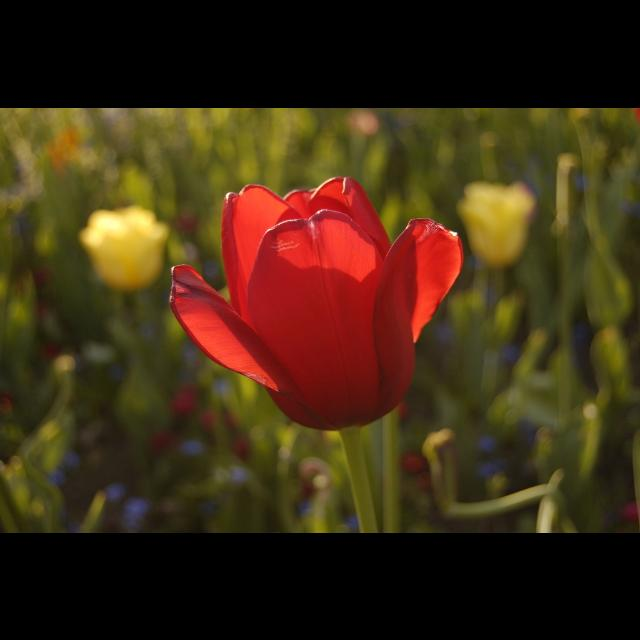Flower: (174, 187, 446, 433), (78, 205, 166, 295), (454, 180, 536, 270), (148, 386, 250, 456), (400, 450, 432, 470), (178, 212, 198, 235), (622, 502, 640, 522), (418, 469, 436, 487), (44, 345, 66, 359)
